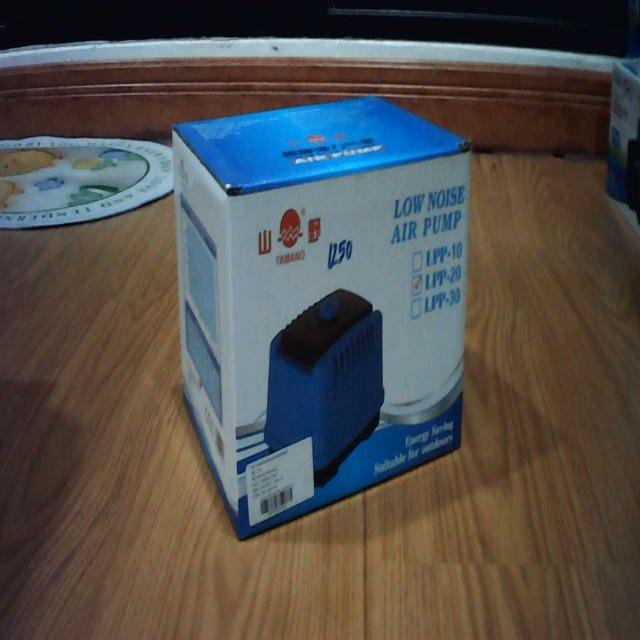YAMANO_LPP_20: (166, 79, 482, 543)
